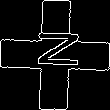N_W: (29, 34, 81, 76)
